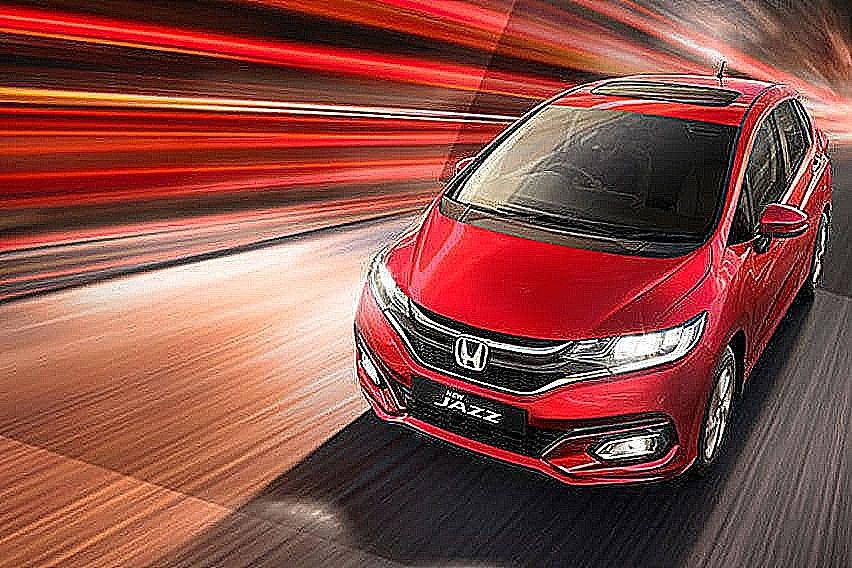Car hood: (386, 196, 719, 347)
Fender - -F-L-: (666, 233, 757, 422)
Front bumper: (353, 276, 717, 486)
Headlight - -L-: (561, 307, 706, 381)
Headlight - -R-: (368, 246, 400, 316)
Passenger-s door - -F-L-: (733, 77, 801, 412)
Side bumper - -L-: (741, 260, 813, 421)
Side mirror - -L-: (748, 198, 808, 257)
